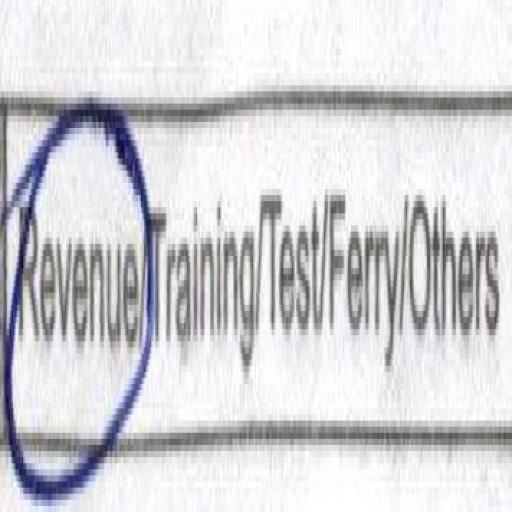check: (0, 30, 144, 512)
